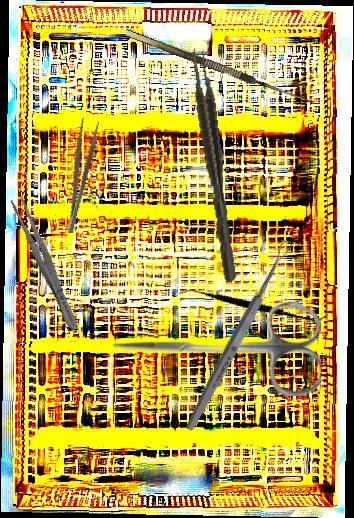Dressing Forceps: (7, 194, 83, 333), (55, 117, 102, 235)
Hook Surgical: (124, 18, 318, 108)
Iris Scissors: (113, 302, 321, 396)
Spatula Surgical: (177, 245, 330, 364)
Surgical Spoon: (182, 238, 296, 433)
Tissue Forceps: (188, 46, 238, 284)
